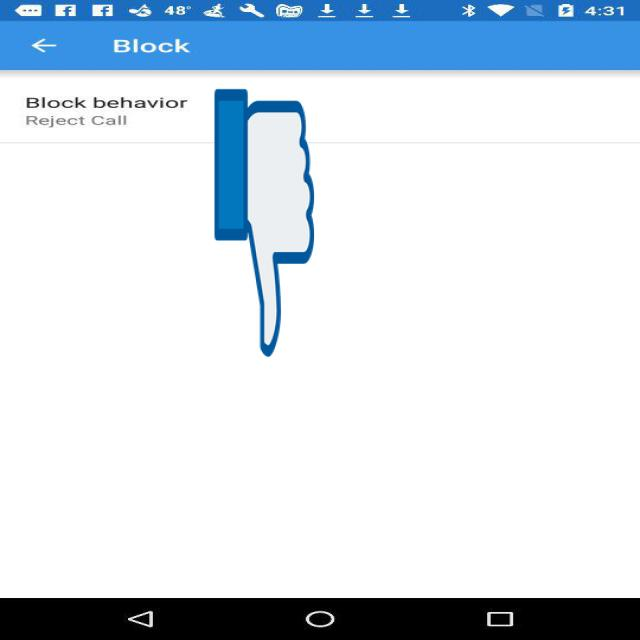obstruction: (215, 83, 314, 363)
